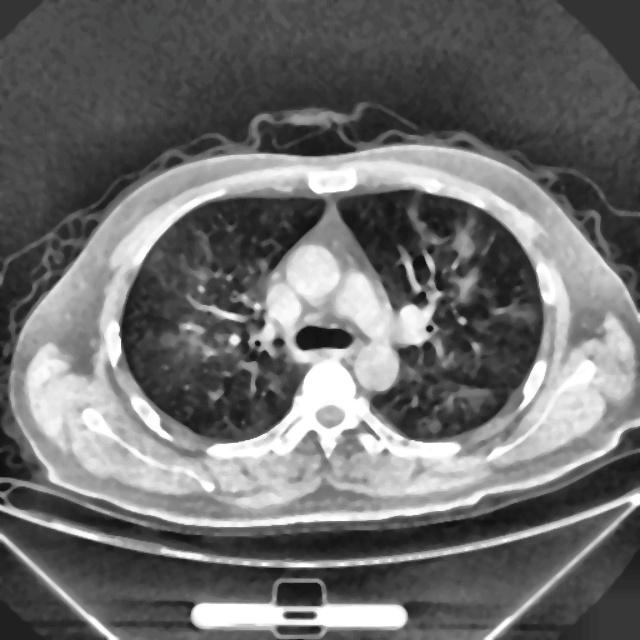covid: (7, 112, 638, 537)
